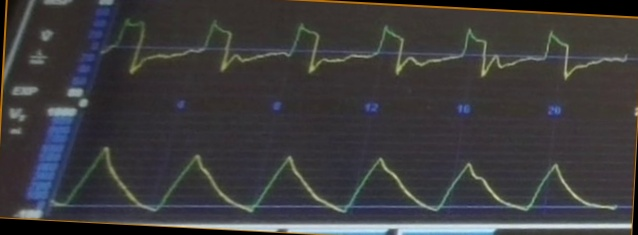Premature_cycling Flow: (106, 17, 608, 96)
Premature_cycling Volume: (62, 143, 609, 216)
